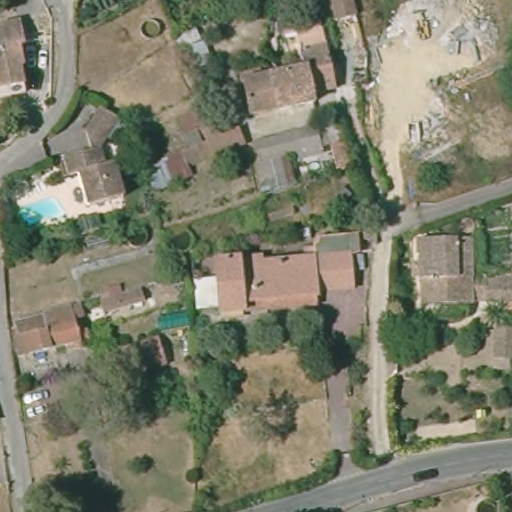pool: (16, 197, 66, 232)
